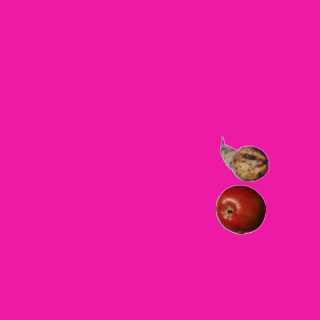Apple Braeburn: (215, 184, 265, 234)
Pear Abate: (219, 134, 269, 184)
